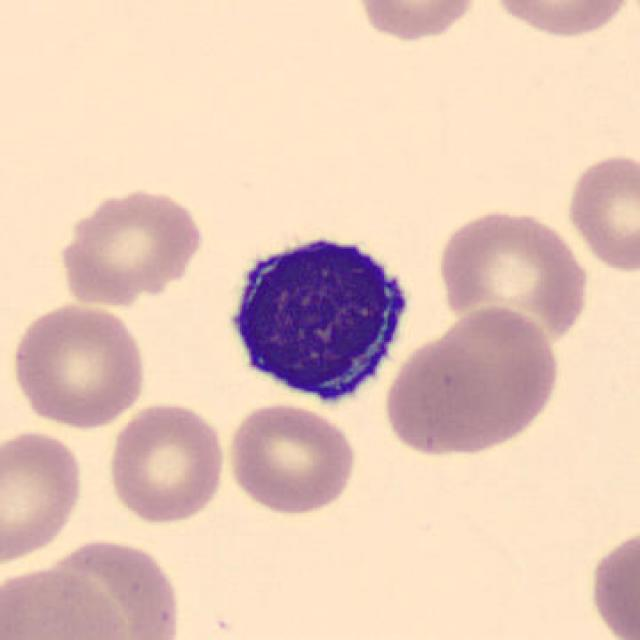Lymphocyte: (213, 222, 423, 413)
RBC: (393, 302, 565, 458), (434, 204, 592, 346), (54, 182, 206, 306), (7, 300, 151, 430), (222, 398, 361, 516), (103, 399, 229, 527), (39, 534, 183, 640), (380, 332, 494, 460), (0, 425, 87, 568), (0, 564, 128, 640), (562, 148, 638, 275), (585, 520, 638, 640), (485, 0, 635, 41), (348, 0, 484, 44)
